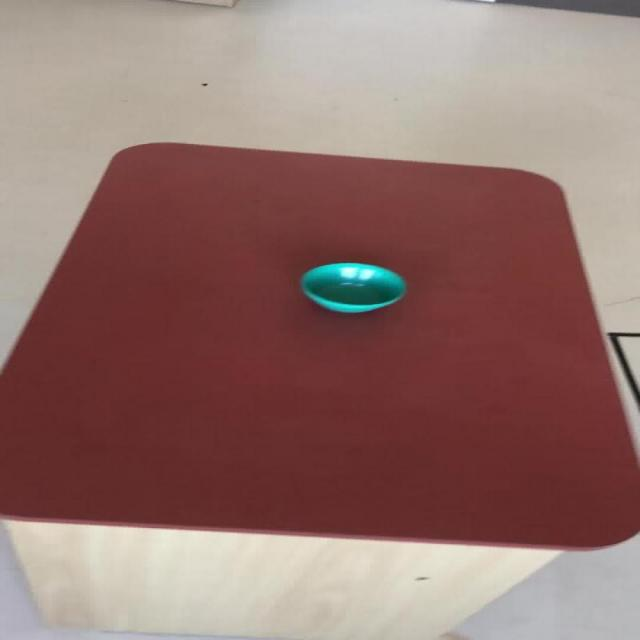Bowl: (299, 261, 406, 313)
